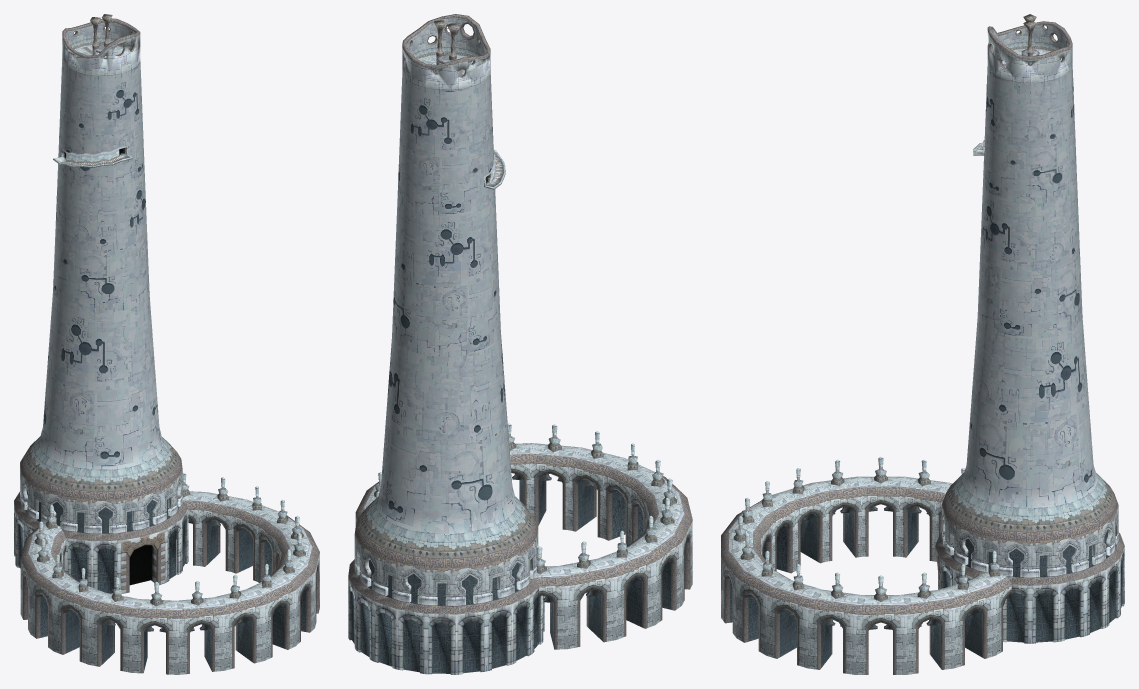
Rendered from island_2_new.glb.
3 views of the same model, side by side, from view 1: azimuth 30°, elevation 25°; view 2: azimuth 150°, elevation 25°; view 3: azimuth 270°, elevation 25° (orthographic). The views are drawn at different scales.
Parts seen in each view (by area): view 1: x_tower, x_tower.001, x_tower.002; view 2: x_tower, x_tower.001, x_tower.002; view 3: x_tower, x_tower.001, x_tower.002.
Part boxes in pixels (box(x1,y1,x2,y2)): x_tower: box(14, 14, 188, 593); x_tower.001: box(20, 491, 319, 674); x_tower.002: box(34, 472, 305, 606); x_tower: box(348, 14, 544, 674); x_tower.001: box(355, 443, 692, 649); x_tower.002: box(374, 423, 676, 574); x_tower: box(935, 14, 1124, 643); x_tower.001: box(721, 476, 1012, 674); x_tower.002: box(733, 457, 1000, 602).
Size of what is drawn, in the model's own units: 6.85 by 13.89 by 8.65.
8 materials, 8 textured.
